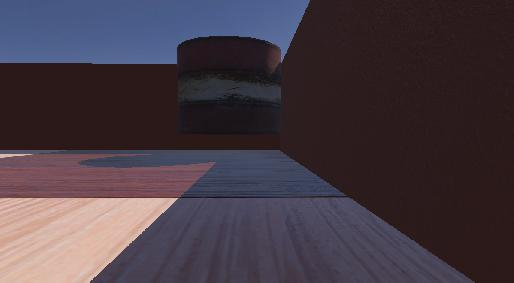OilBarrel: (173, 28, 289, 161)
